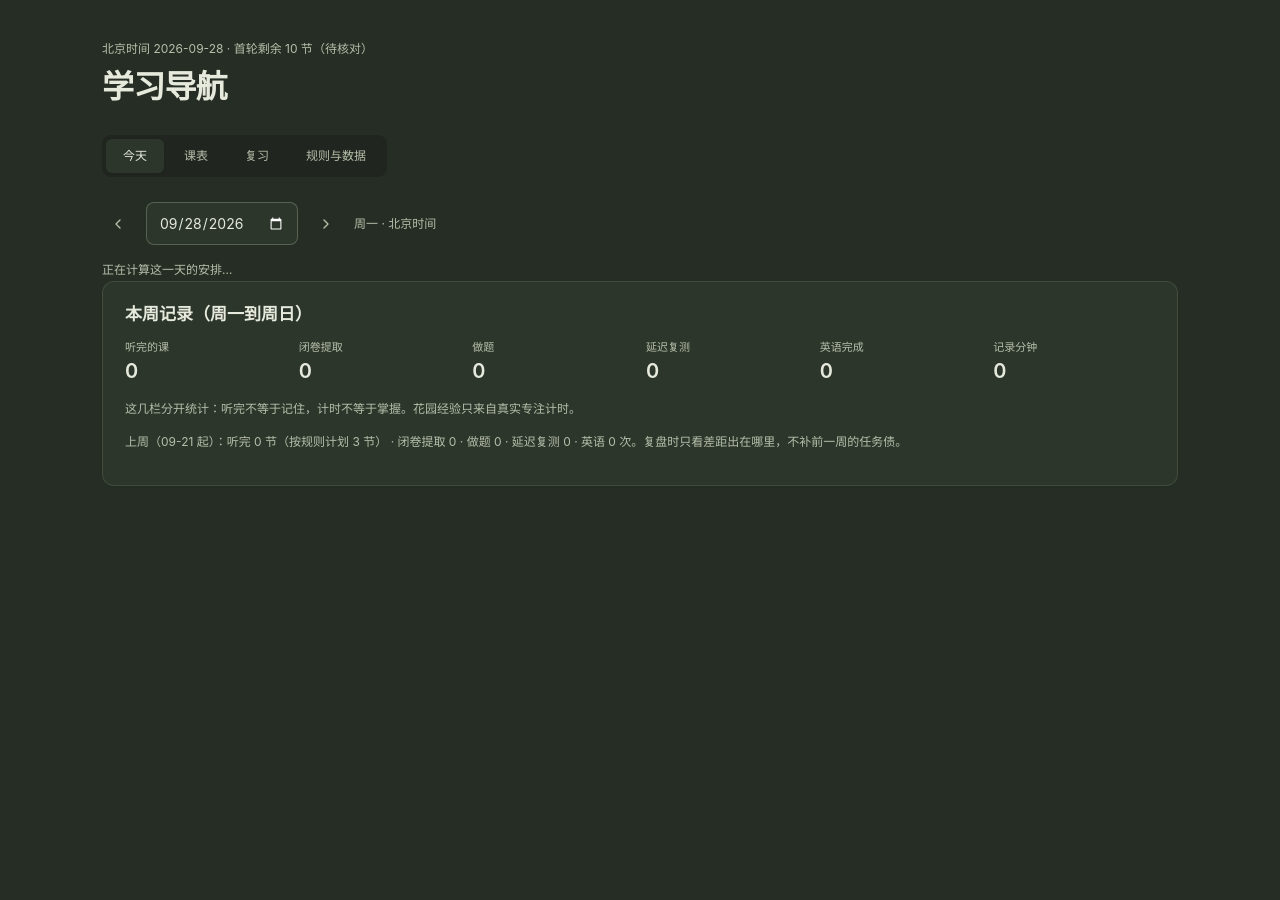
Test case: 学习导航 page › the new-term form starts blank again after creating a term
This screenshot has width=1280, height=900.
Click the button "课表" at (196, 156), box [167,139,225,173]
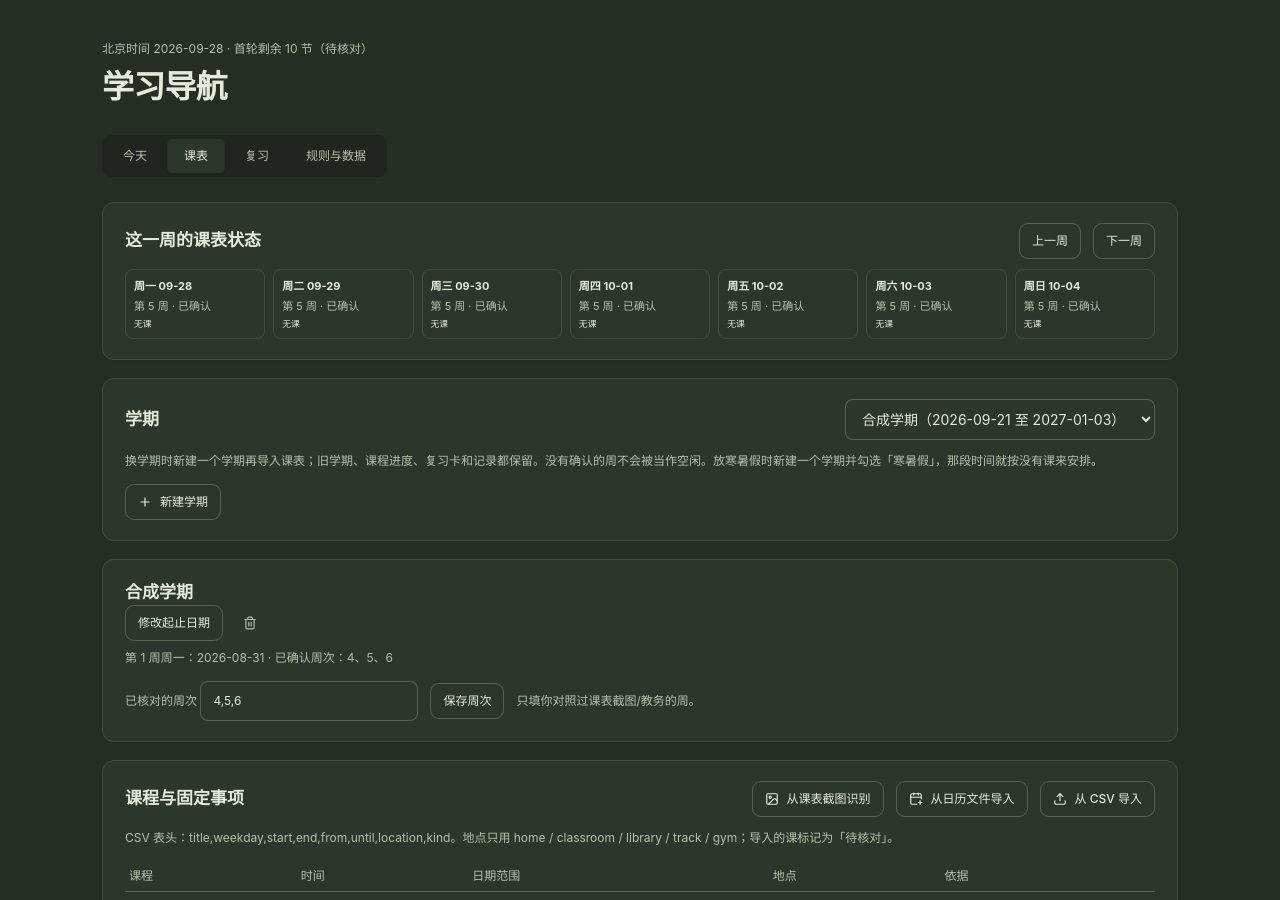
Click the button "新建学期" at (173, 502), box [125,484,221,520]
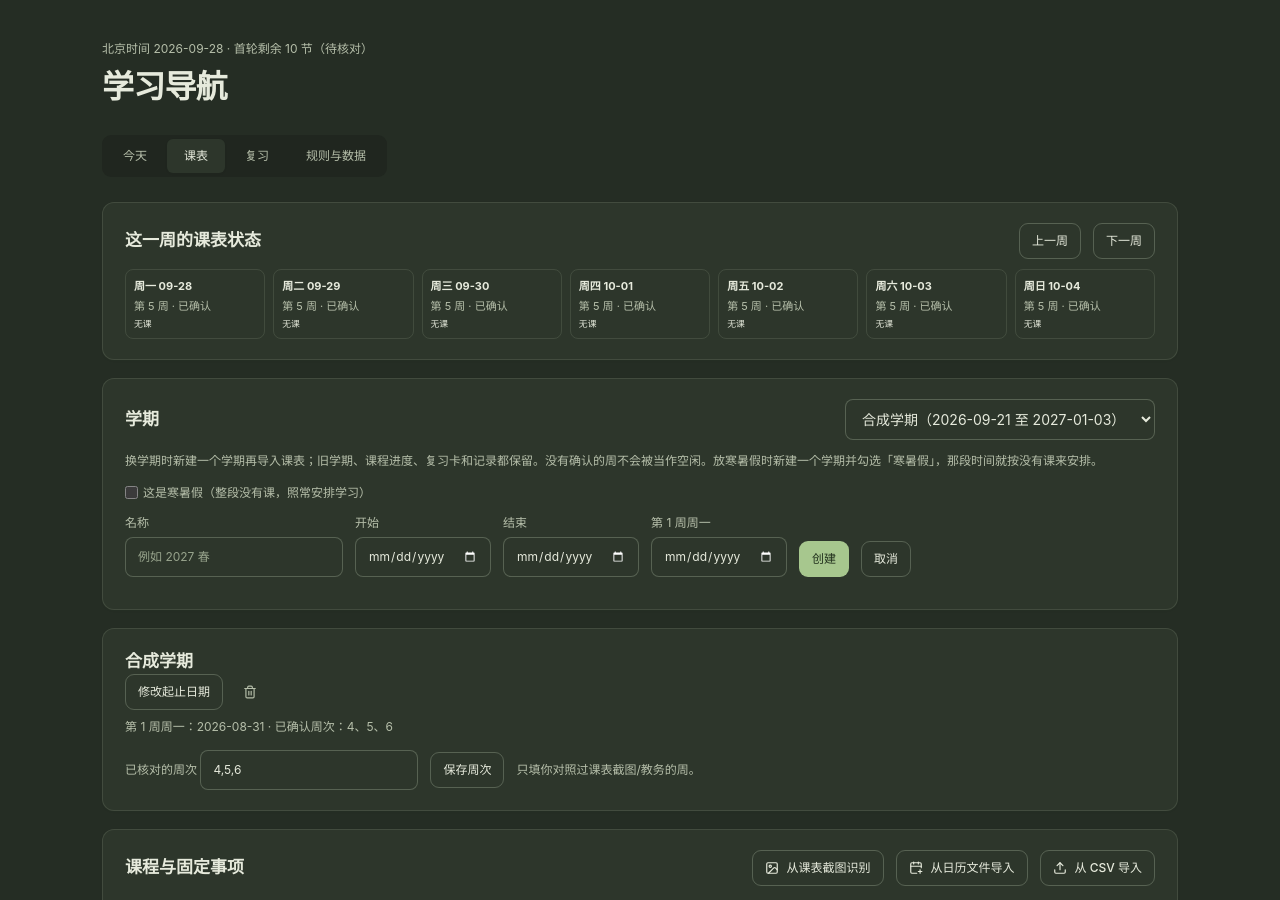
Click the checkbox labelled "这是寒暑假（整段没有课，照常安排学习）" at (132, 493), box [125,486,138,500]
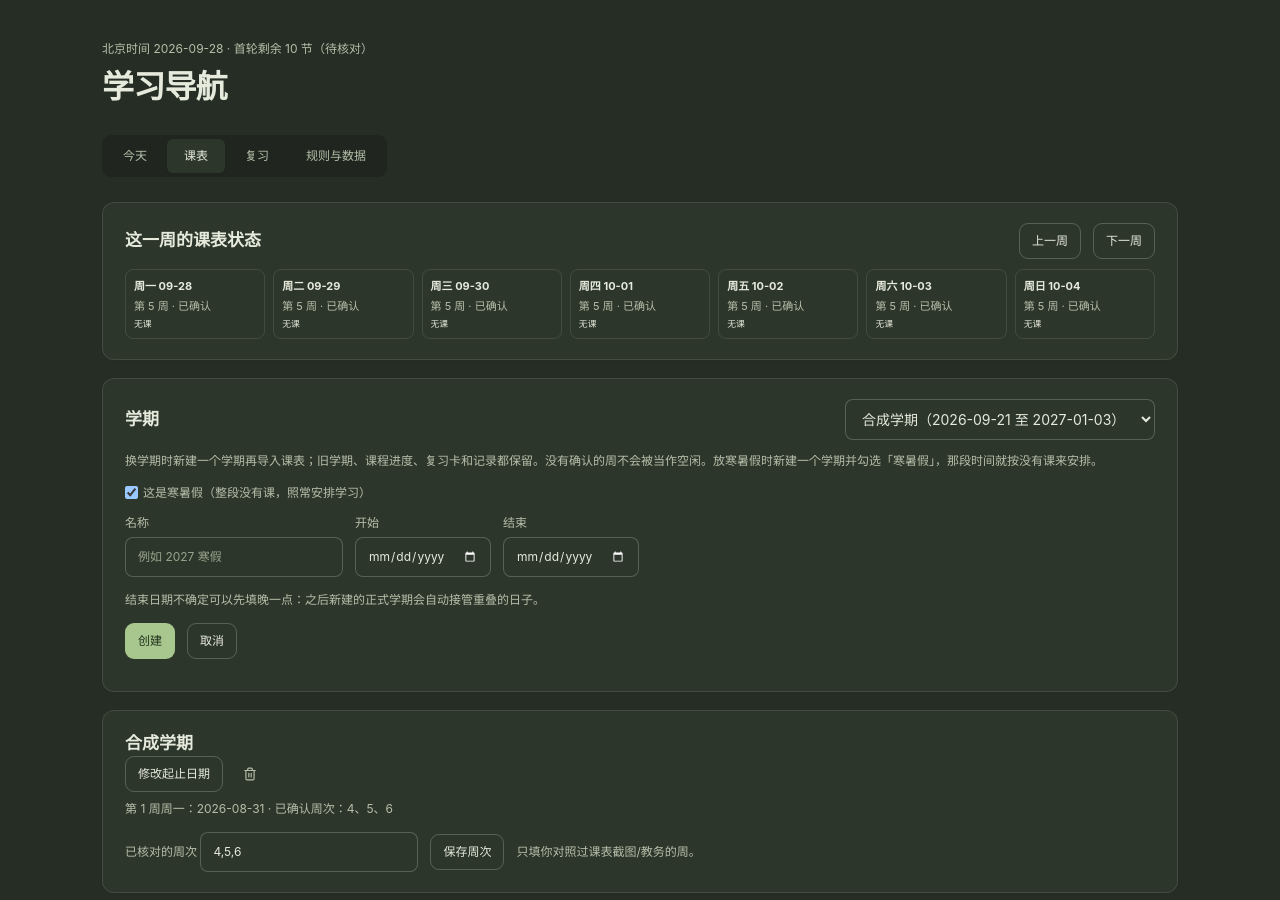
Type "2027 寒假" into the field with placeholder "例如 2027 寒假" at (234, 557), box [125,537,343,577]
Type "2027-01-18" into the date field labelled "开始" at (423, 557), box [355,537,491,577]
Type "2027-02-21" into the date field labelled "结束" at (571, 557), box [503,537,639,577]
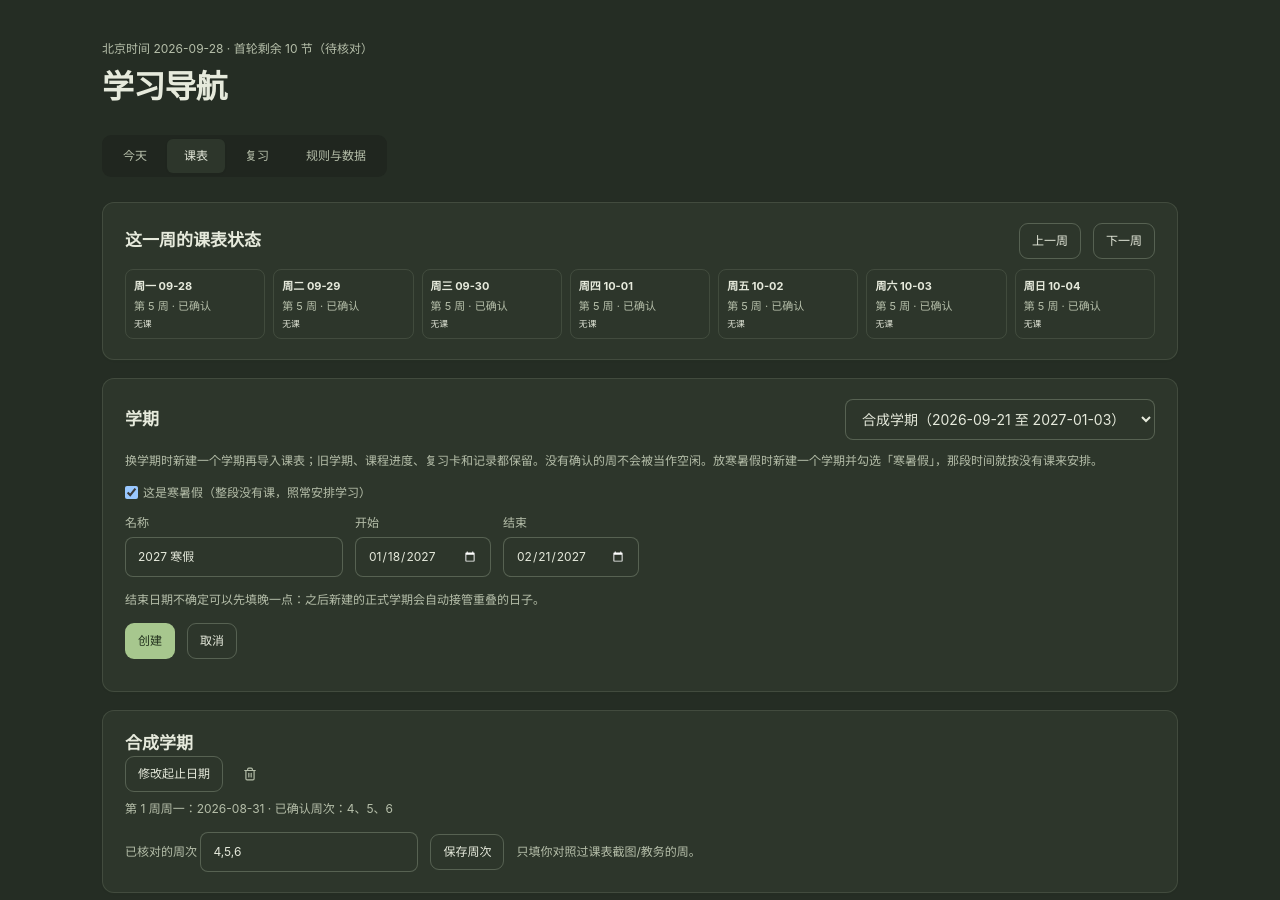
Click the button "创建" at (150, 641), box [125,623,175,659]
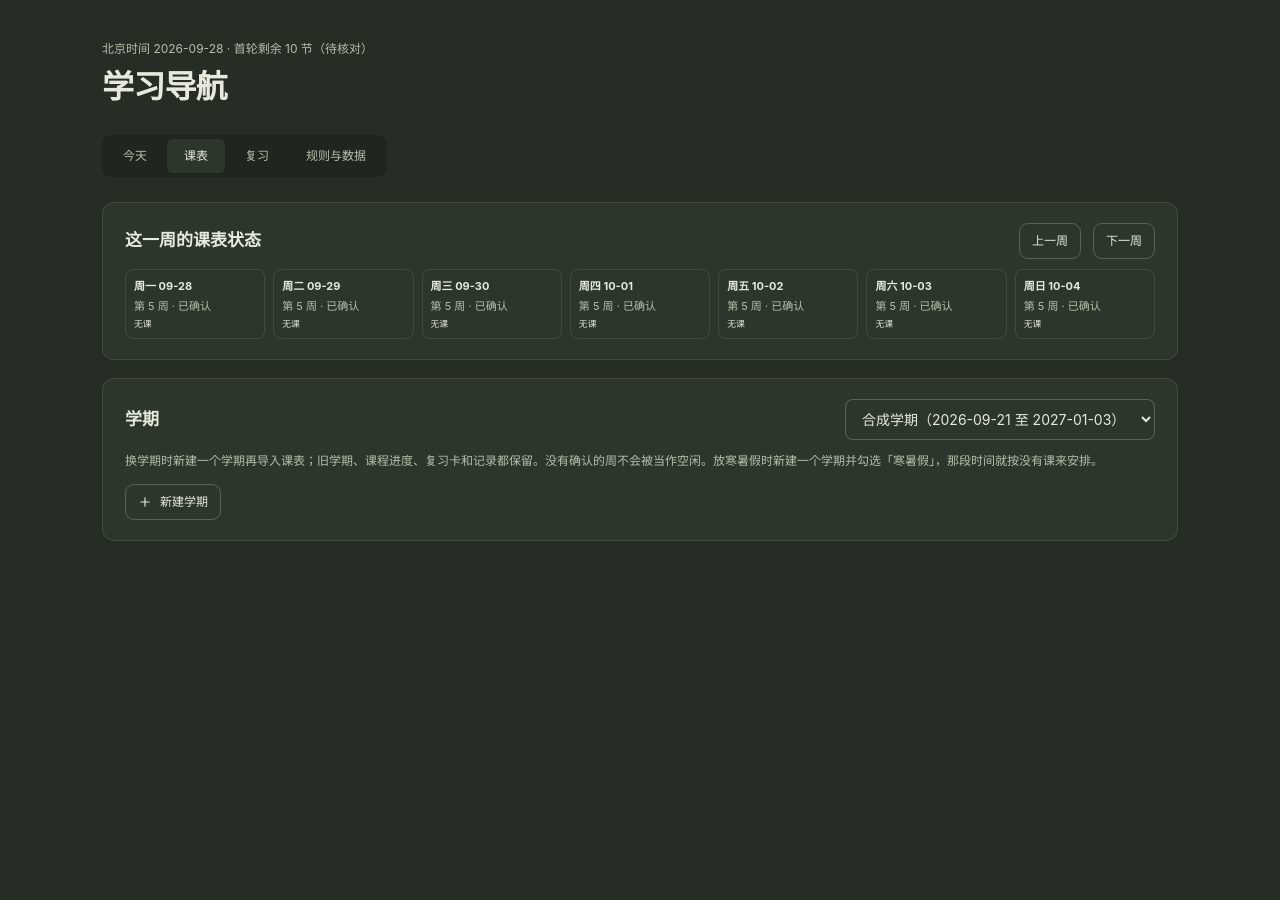
Click the button "新建学期" at (173, 502), box [125,484,221,520]
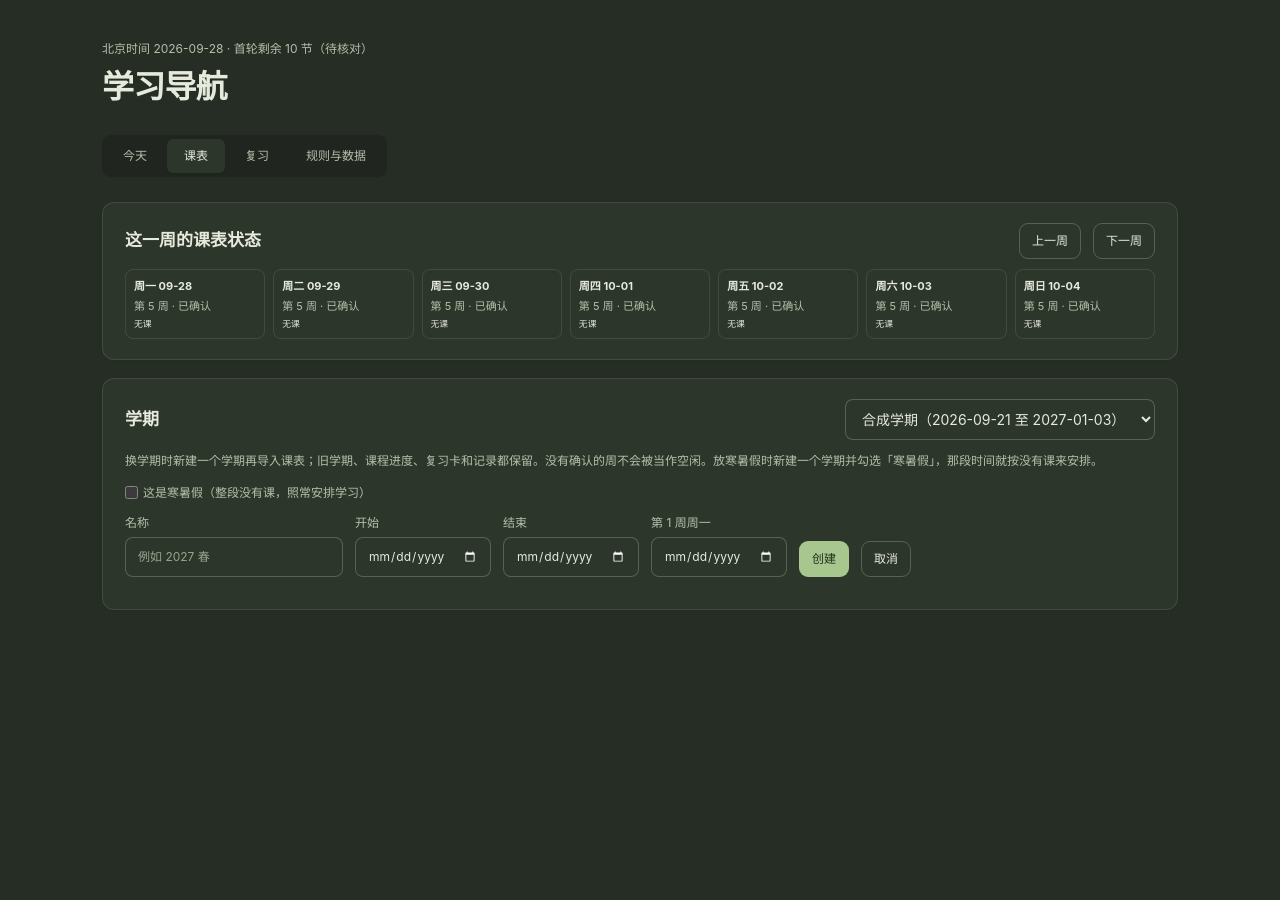
Result: the checkbox labelled "这是寒暑假（整段没有课，照常安排学习）" is not checked at [125,486,138,500]
Result: the field with placeholder "例如 2027 春" is empty at [125,537,343,577]
